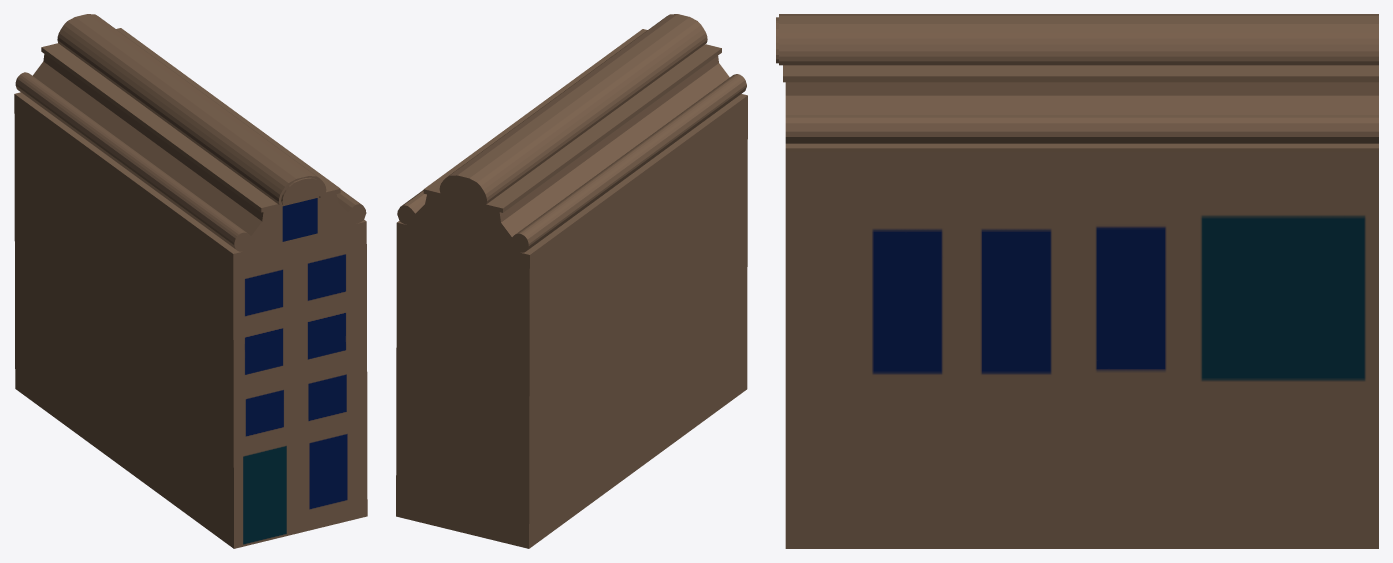
Rendered from lowpolyhouse1.fbx.
3 renders of one model, left to right at view 1: azimuth 30°, elevation 25°; view 2: azimuth 150°, elevation 25°; view 3: azimuth 270°, elevation 25°, orthographic. The views are drawn at different scales.
Visible parts, largest first — view 1: Plane; view 2: Plane; view 3: Plane.
Boxes of the visible parts, x1,y1,x2,y2 form: Plane: [14, 14, 367, 548]; Plane: [396, 14, 747, 548]; Plane: [776, 14, 1378, 548].
Size of the model in its own units: 143 by 363 by 409.
